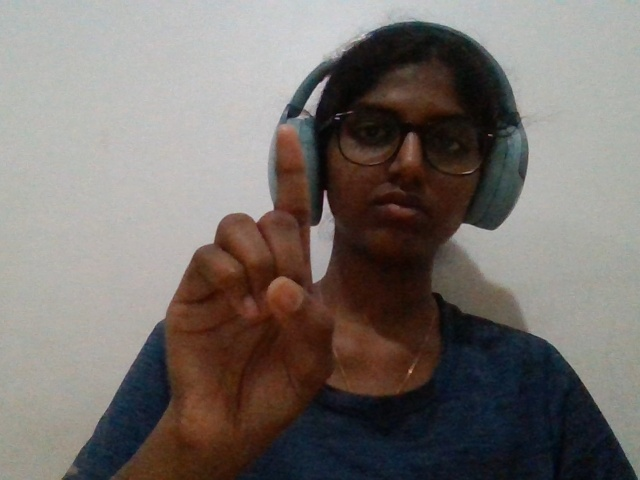D: (138, 106, 356, 469)
